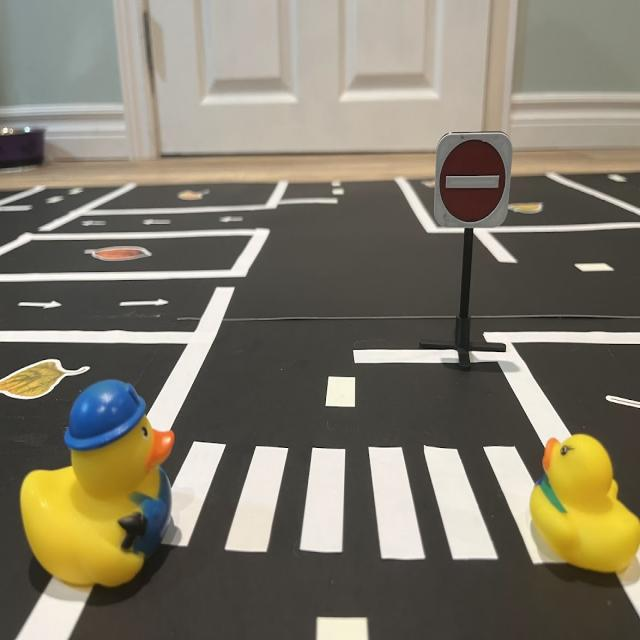duck_regular: (529, 435, 640, 580)
duck_specialty: (20, 381, 175, 592)
road_crosswalk: (166, 433, 580, 567)
road_oneway: (118, 291, 173, 315), (15, 296, 63, 316), (142, 215, 175, 228), (83, 218, 110, 232), (217, 214, 247, 226)
sign_noentry: (433, 133, 515, 230)
